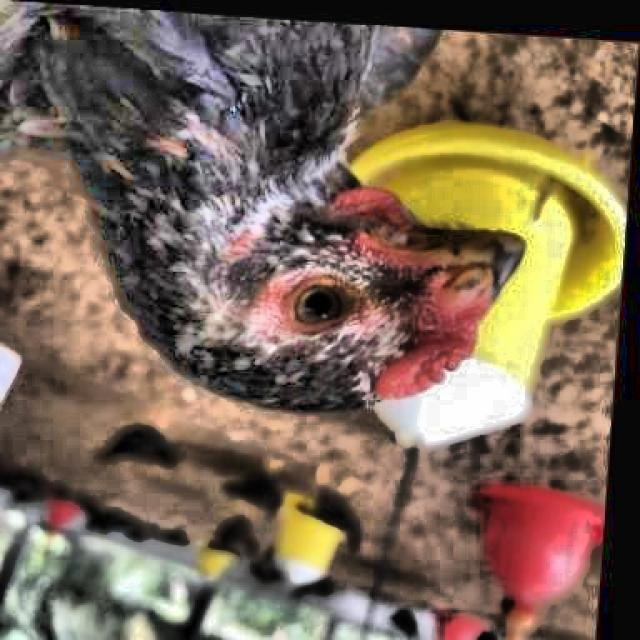Healthy: (265, 270, 387, 347)
